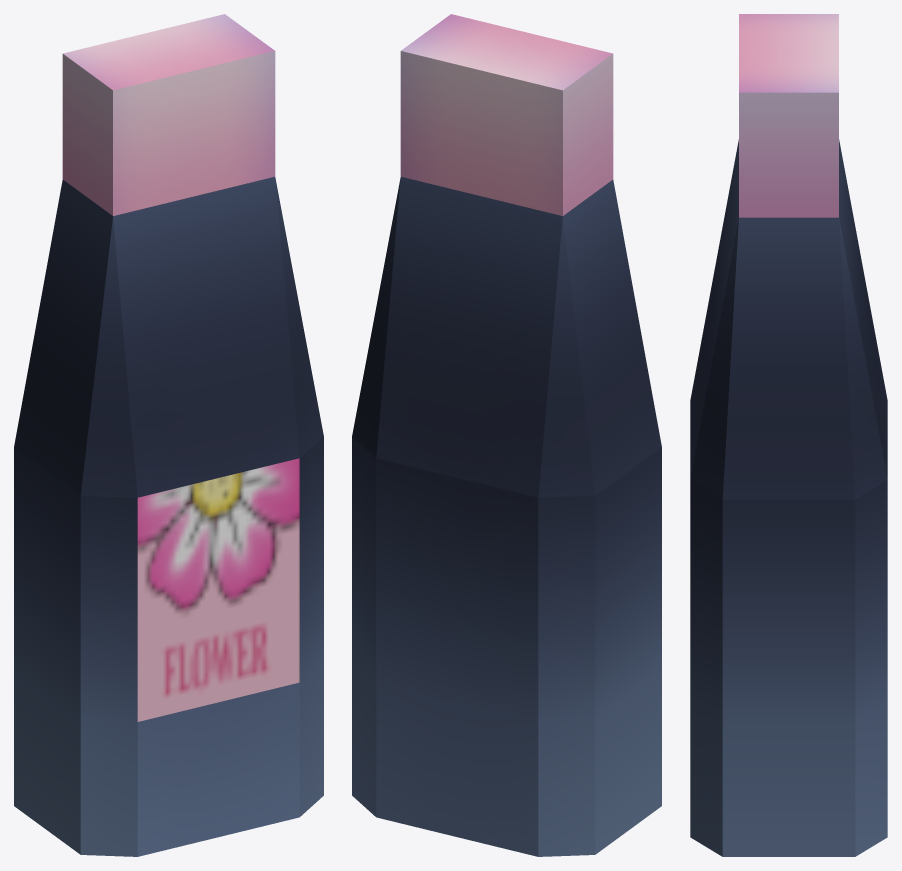
Rendered from giftgoods108h.fbx.
3 renders of one model, left to right at view 1: azimuth 30°, elevation 25°; view 2: azimuth 150°, elevation 25°; view 3: azimuth 270°, elevation 25°, orthographic.
Parts seen in each view (by area): view 1: giftgoods108h; view 2: giftgoods108h; view 3: giftgoods108h.
Part boxes in pixels (x1,y1,x2,y2): giftgoods108h: (14, 14, 323, 856); giftgoods108h: (352, 14, 661, 856); giftgoods108h: (690, 14, 887, 856).
Bounding box in the file's own units: 0.0443 × 0.1303 × 0.0313.
